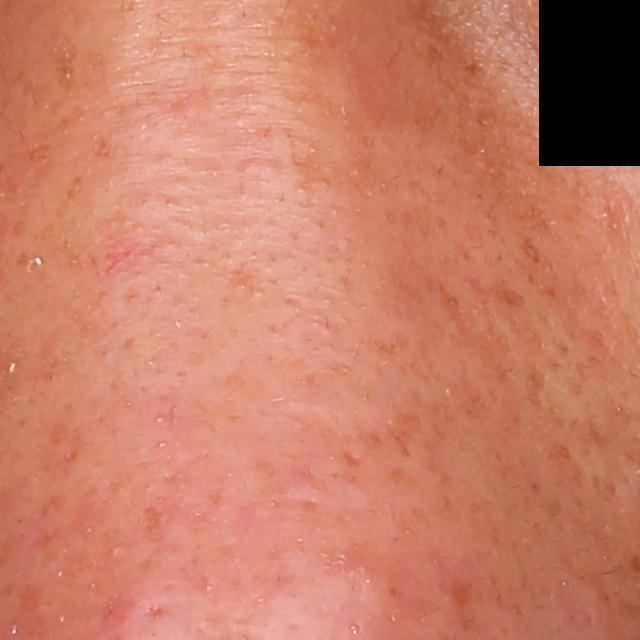melasma: (435, 563, 482, 627), (44, 29, 82, 94), (379, 412, 422, 461), (522, 357, 548, 405), (518, 237, 543, 263)
